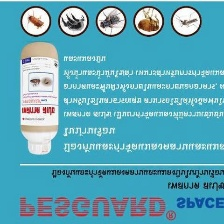insecticide: (16, 39, 60, 157)
